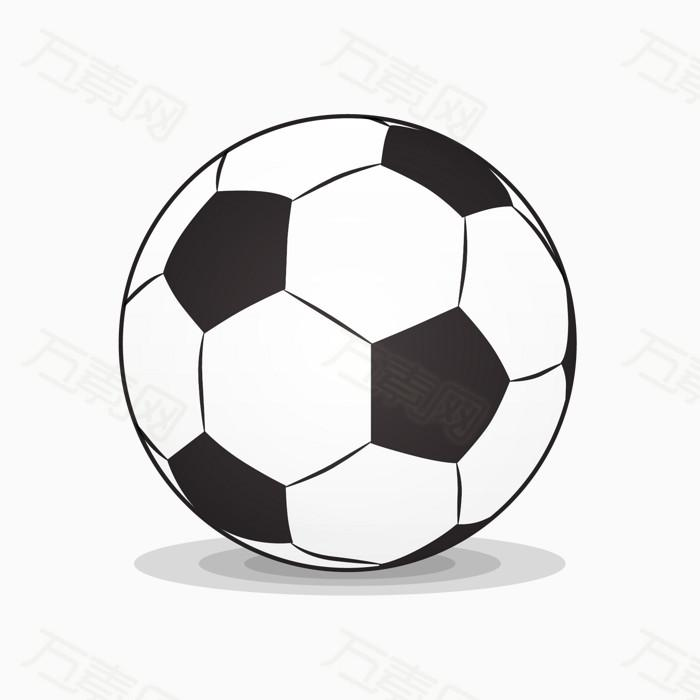football: (115, 108, 570, 572)
